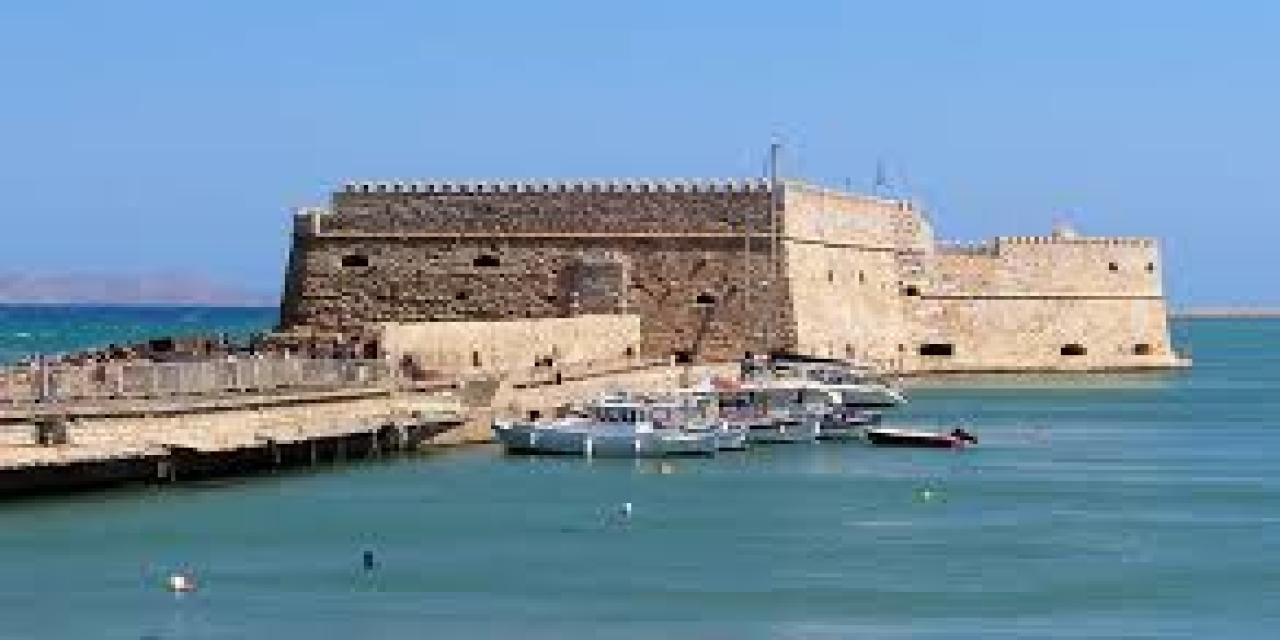Kules: (275, 153, 1190, 379)
